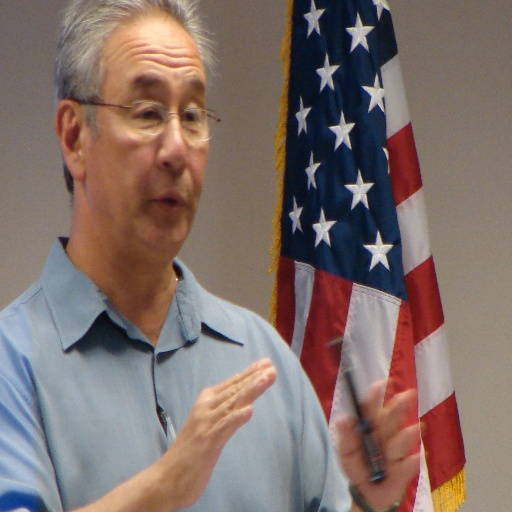hand: (164, 354, 276, 509), (332, 373, 427, 511)
